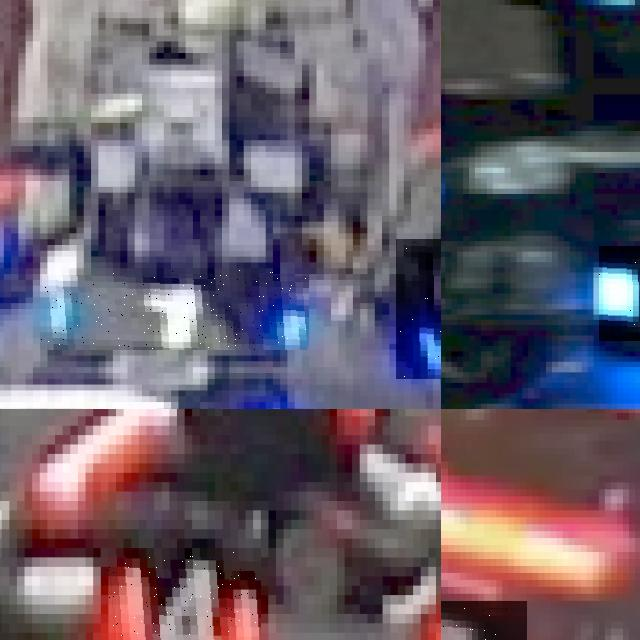B1: (40, 268, 309, 350), (396, 239, 441, 378)
Bs: (599, 246, 640, 340)
R4: (108, 548, 260, 640)
